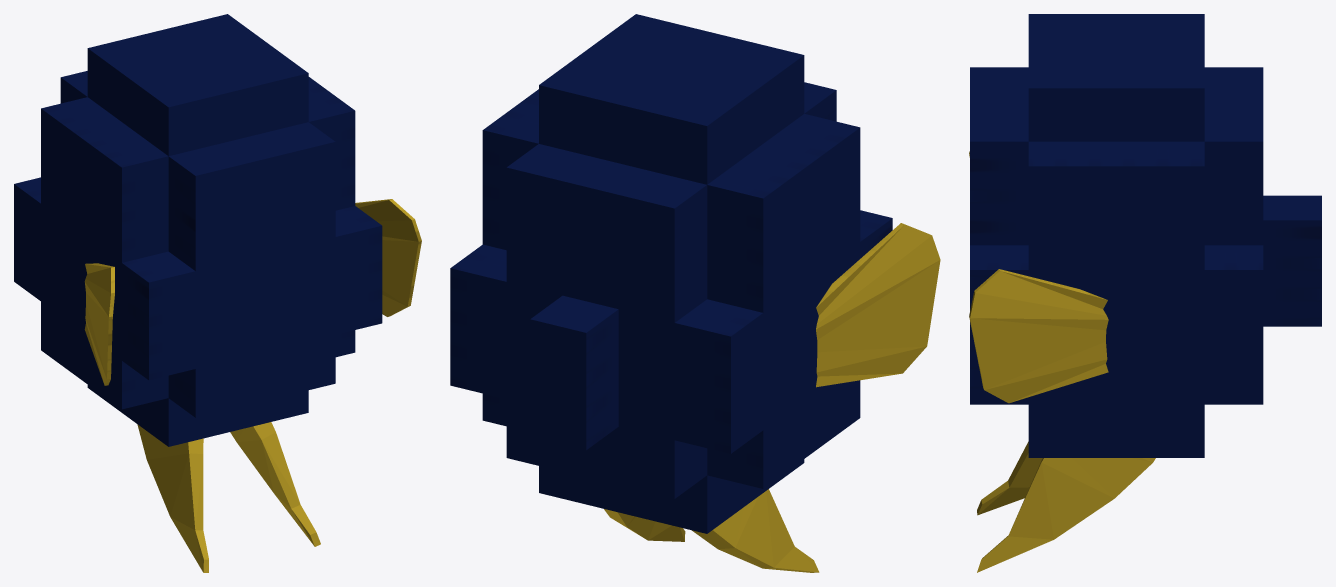
File: egg_z06_01.glb
3 views of the same model, side by side, from view 1: azimuth 30°, elevation 25°; view 2: azimuth 150°, elevation 25°; view 3: azimuth 270°, elevation 25° (orthographic). The views are drawn at different scales.
Parts seen in each view (by area): view 1: model_036; view 2: model_036; view 3: model_036.
Boxes of the visible parts, left/top/right/bottom form: model_036: left=14, top=14, right=421, bottom=572; model_036: left=450, top=14, right=940, bottom=572; model_036: left=969, top=14, right=1321, bottom=572.
Bounding box in the file's own units: 2.9 × 4 × 2.6.
Materials: 2 (2 with a texture image).
